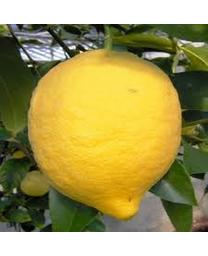lemon: (29, 50, 183, 217)
